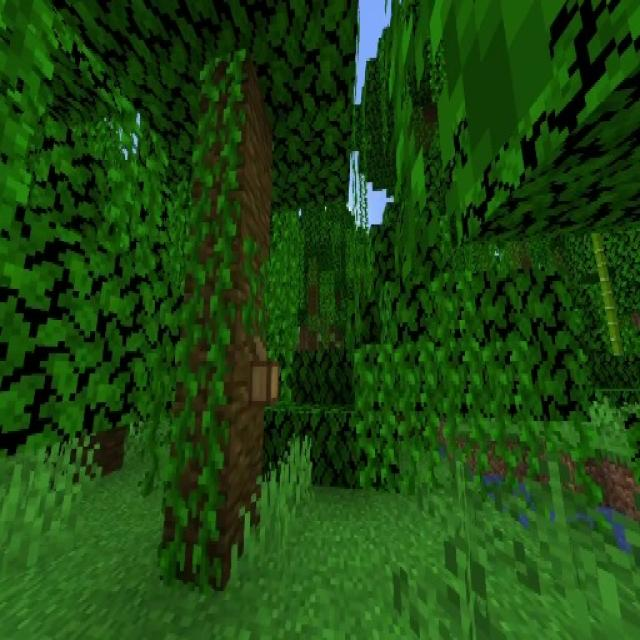jungle_log: (158, 53, 283, 588)
